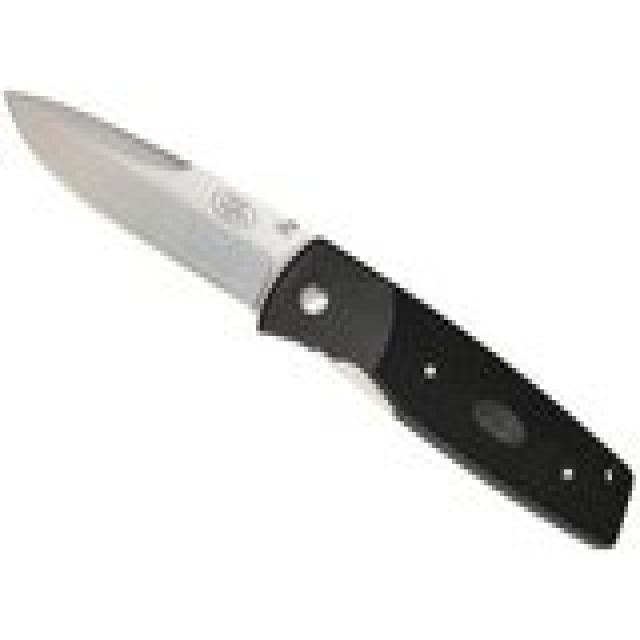Knife: (8, 53, 632, 550)
